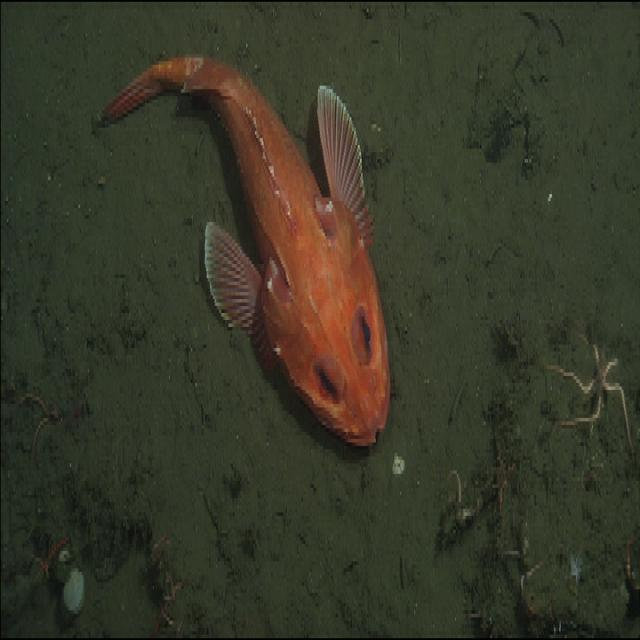Brittle Star: (551, 334, 637, 453), (450, 462, 468, 514)
Not Brittle Star: (94, 49, 393, 453), (60, 563, 92, 624), (566, 549, 586, 596)
